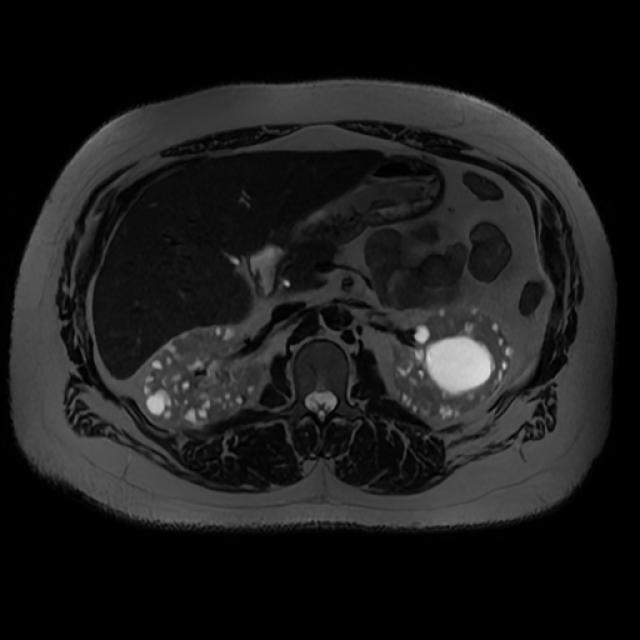sag: (146, 330, 264, 427)
sol: (393, 309, 514, 420)
